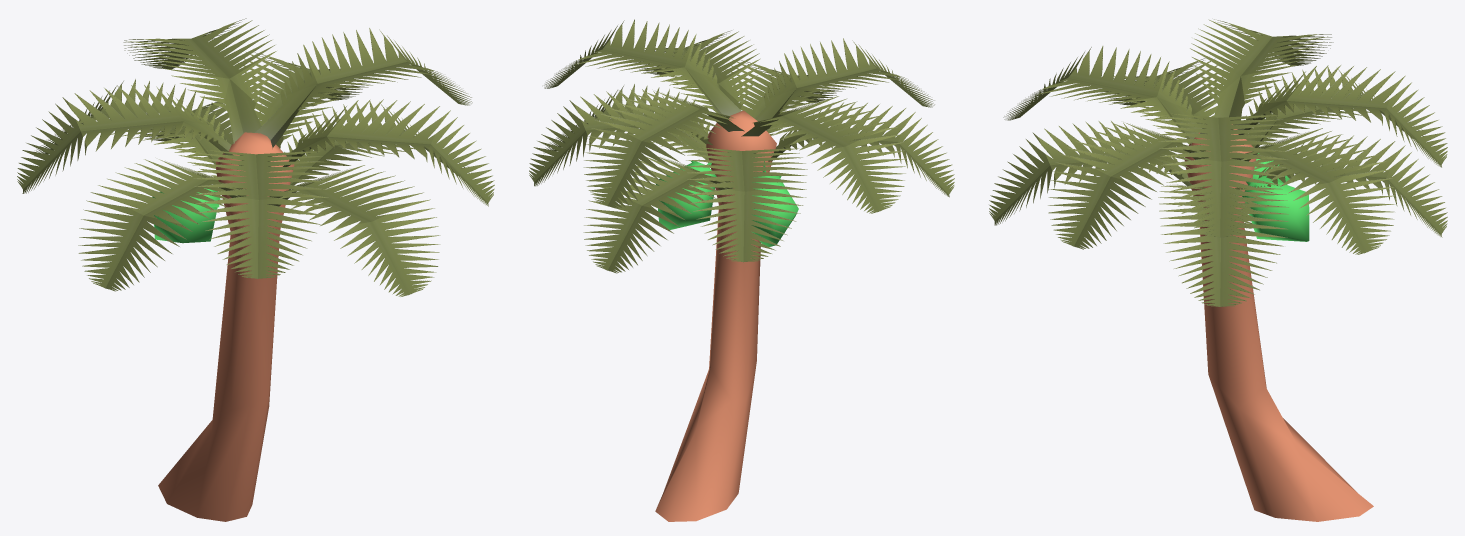
Rendered from Palm_LOD1.fbx.
The picture shows the model from 3 angles, left to right: view 1: azimuth 30°, elevation 25°; view 2: azimuth 150°, elevation 25°; view 3: azimuth 270°, elevation 25°; orthographic projection. The views are drawn at different scales.
Parts seen in each view (by area): view 1: SM_Palm_LOD1; view 2: SM_Palm_LOD1; view 3: SM_Palm_LOD1.
Part boxes in pixels (x1,y1,x2,y2): SM_Palm_LOD1: (17, 18, 494, 521); SM_Palm_LOD1: (529, 19, 954, 521); SM_Palm_LOD1: (989, 19, 1447, 521).
Size of the model in its own units: 381 by 393 by 381.
